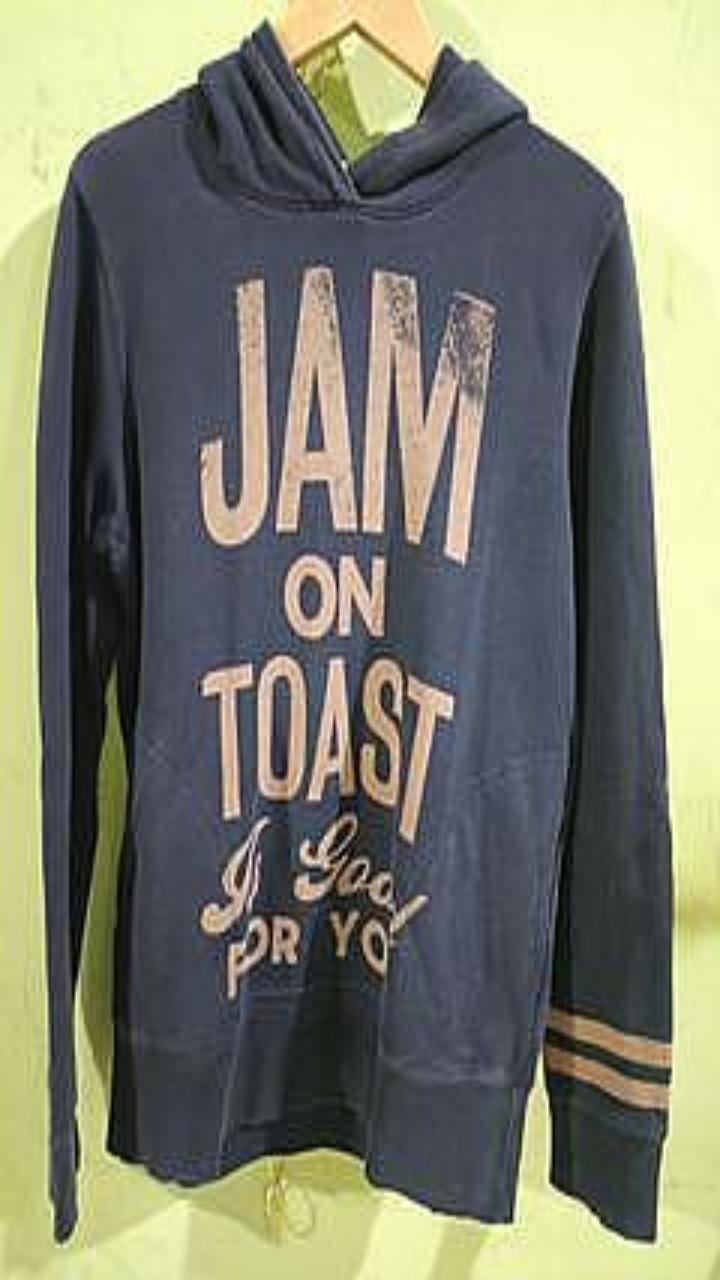Hoodie: (36, 20, 672, 1240)
